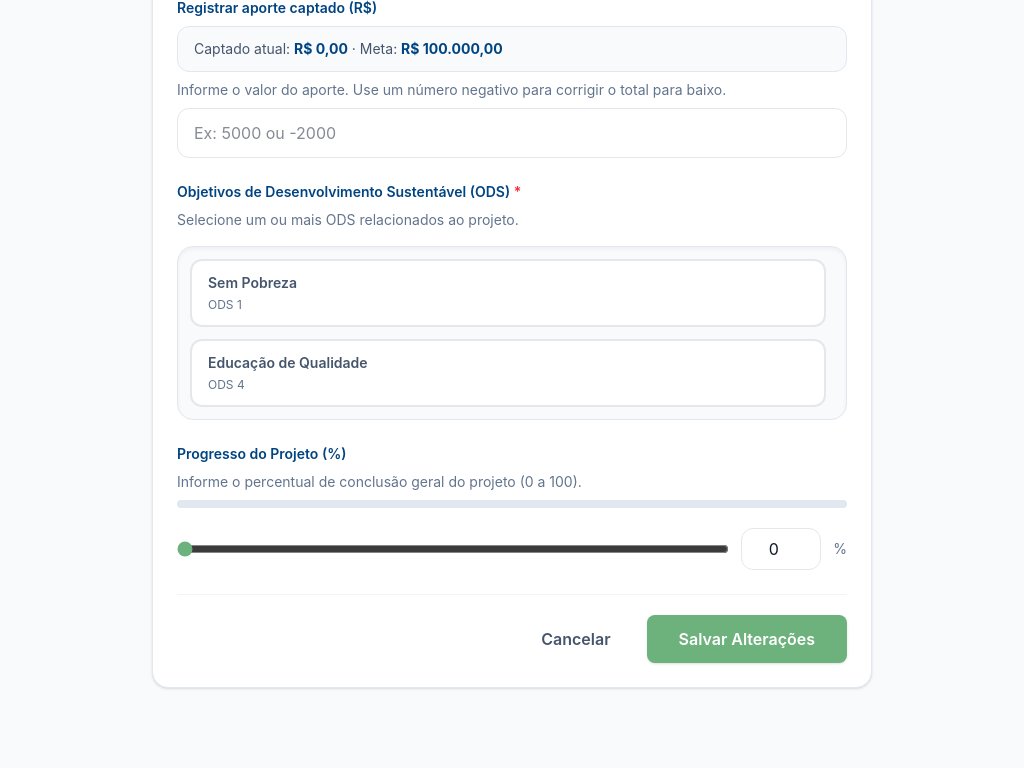
Scenario: EditProjectPage › exibe erro de validação quando nenhum ODS é selecionado
(page scrolled)
Click the button "Salvar Alterações" at [747, 639], box top-left (646, 615), bottom-right (847, 663)
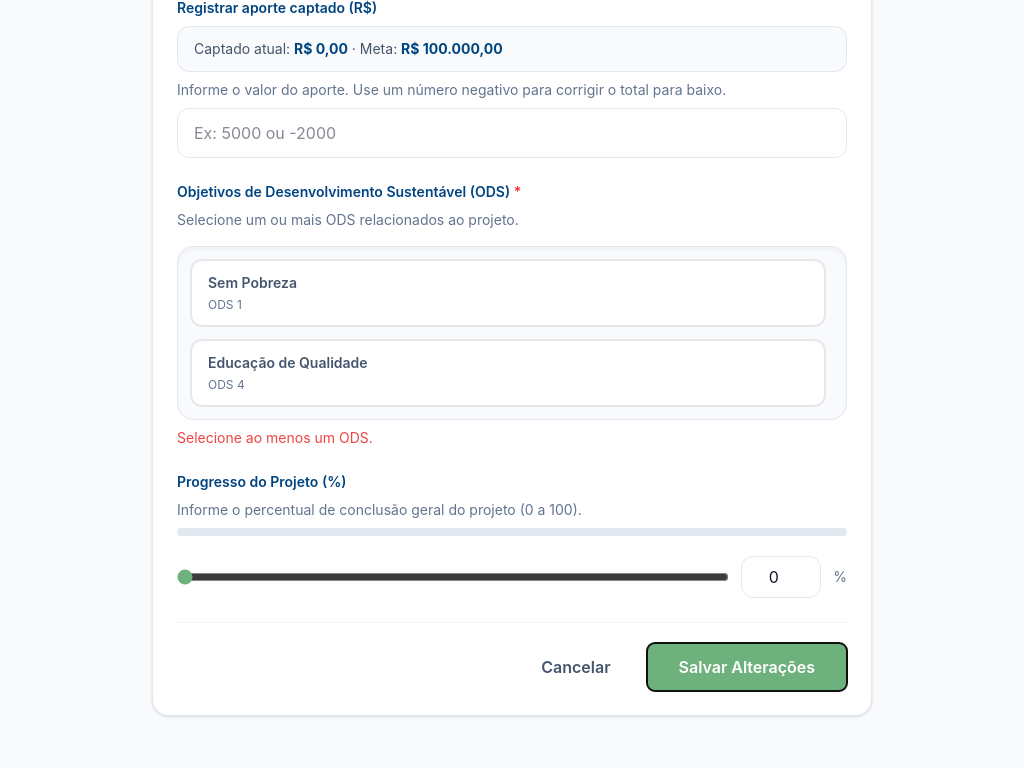
Now the text "Selecione ao menos um ODS." is shown, box top-left (177, 429), bottom-right (373, 446)
